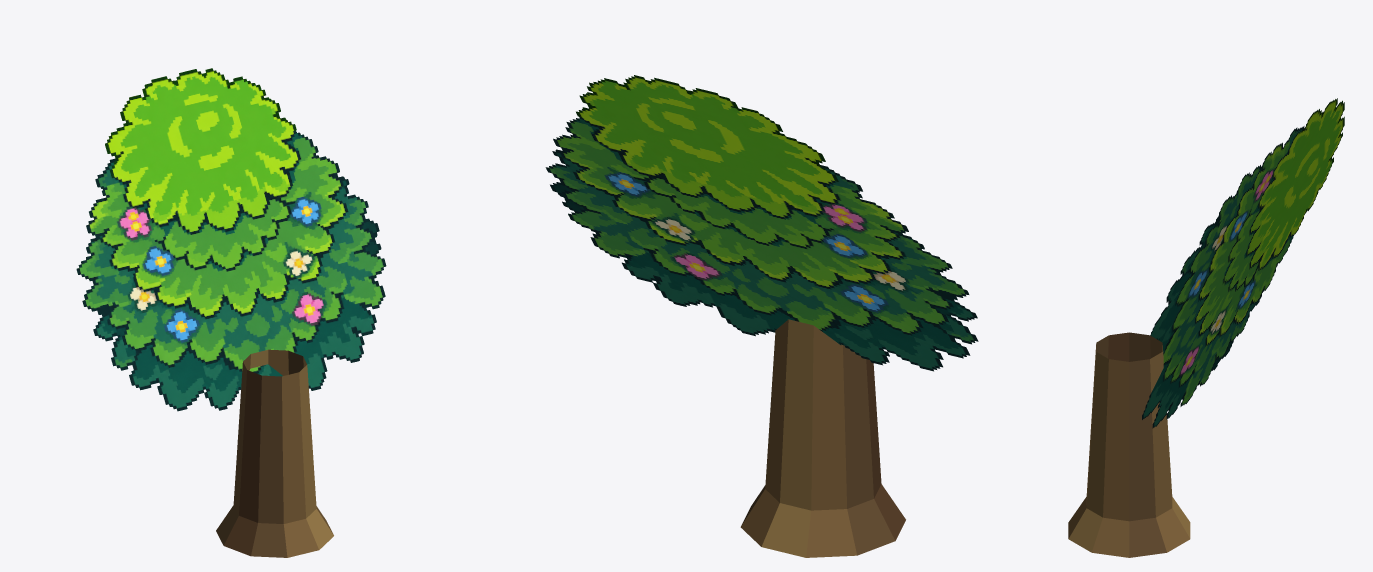
Rendered from SM_Pixel_CardTree_B.fbx.
The picture shows the model from 3 angles, left to right: view 1: azimuth 30°, elevation 25°; view 2: azimuth 150°, elevation 25°; view 3: azimuth 270°, elevation 25°; orthographic projection. The views are drawn at different scales.
Parts seen in each view (by area): view 1: SM_Pixel_CardTree_B; view 2: SM_Pixel_CardTree_B; view 3: SM_Pixel_CardTree_B.
Part boxes in pixels (<box>): SM_Pixel_CardTree_B: <box>76,68,386,557</box>; SM_Pixel_CardTree_B: <box>545,75,978,557</box>; SM_Pixel_CardTree_B: <box>1068,98,1344,557</box>.
Size of the model in its own units: 342 by 258 by 427.
Materials: 2 (2 with a texture image).
